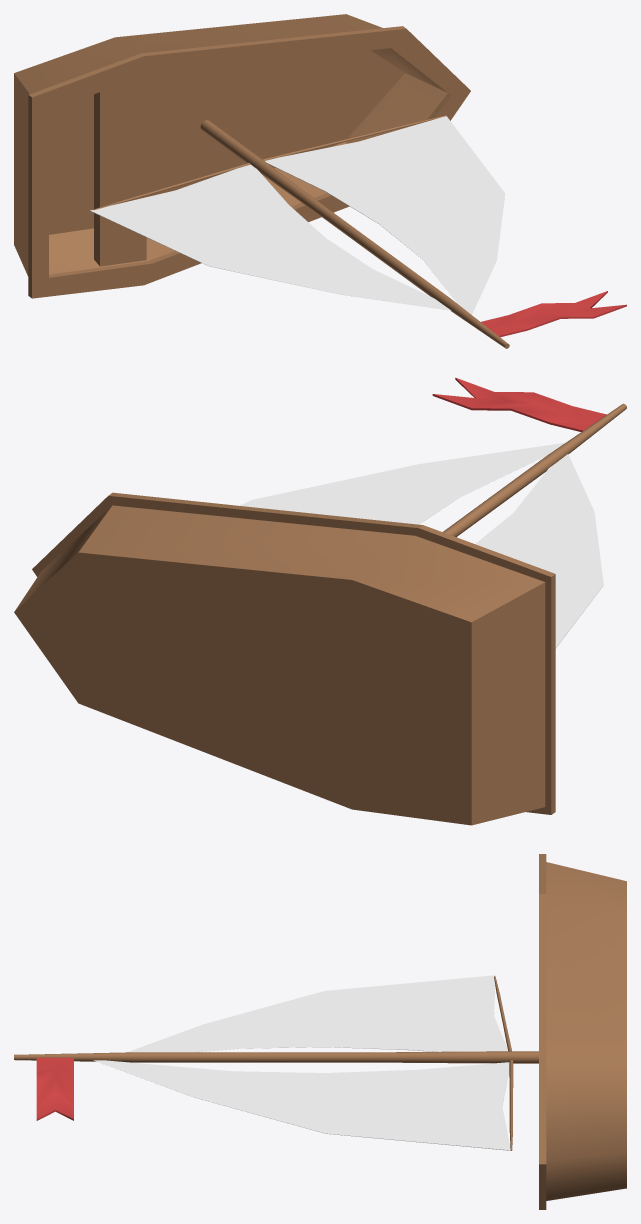
File: ship.glb
3 views of the same model, one above another, from view 1: azimuth 30°, elevation 25°; view 2: azimuth 150°, elevation 25°; view 3: azimuth 270°, elevation 25° (orthographic). The views are drawn at different scales.
Parts seen in each view (by area): view 1: node-0_primitive1, node-0_primitive0, node-0_primitive2; view 2: node-0_primitive1, node-0_primitive0, node-0_primitive2; view 3: node-0_primitive0, node-0_primitive1, node-0_primitive2.
Boxes of the visible parts, x1=… form: node-0_primitive1: x1=14, y1=14, x2=509, y2=348; node-0_primitive0: x1=90, y1=116, x2=505, y2=314; node-0_primitive2: x1=481, y1=291, x2=626, y2=337; node-0_primitive1: x1=14, y1=403, x2=626, y2=825; node-0_primitive0: x1=239, y1=442, x2=603, y2=648; node-0_primitive2: x1=432, y1=377, x2=606, y2=431; node-0_primitive0: x1=93, y1=975, x2=510, y2=1150; node-0_primitive1: x1=14, y1=854, x2=626, y2=1209; node-0_primitive2: x1=36, y1=1057, x2=73, y2=1120.
Size of the model in its own units: 89.12 by 44.44 by 109.
